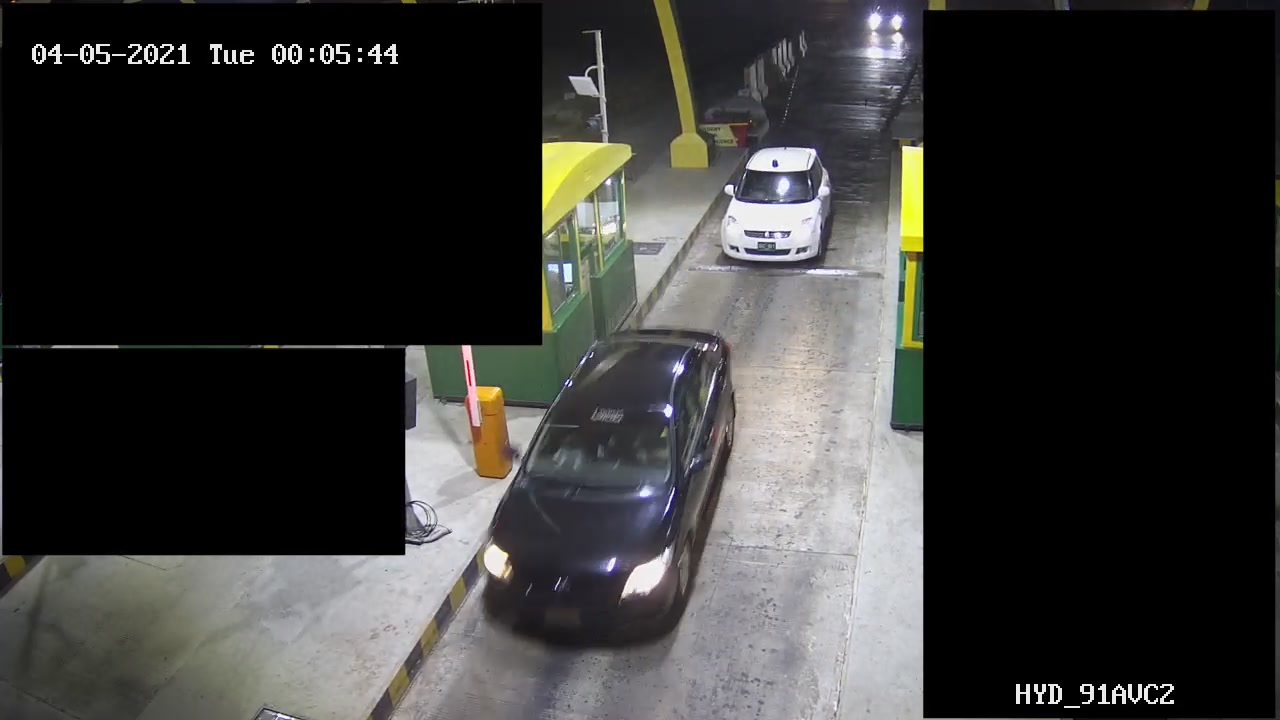F1: (478, 324, 747, 641), (708, 133, 838, 281)
